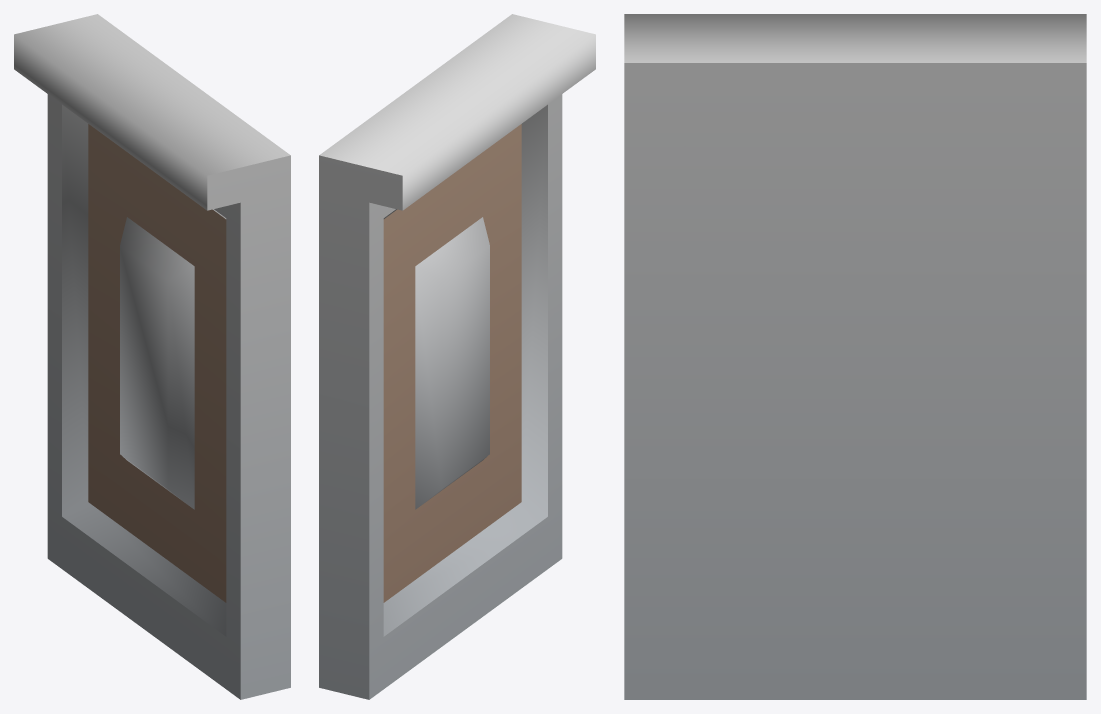
File: paneling-low-b-half (%wall).glb
3 views of the same model, side by side, from view 1: azimuth 30°, elevation 25°; view 2: azimuth 150°, elevation 25°; view 3: azimuth 270°, elevation 25° (orthographic). The views are drawn at different scales.
Visible parts, largest first — view 1: paneling-low-b-half (%wall); view 2: paneling-low-b-half (%wall); view 3: paneling-low-b-half (%wall).
Part boxes in pixels (<box>): paneling-low-b-half (%wall): <box>14,14,290,699</box>; paneling-low-b-half (%wall): <box>319,14,595,699</box>; paneling-low-b-half (%wall): <box>624,14,1086,699</box>.
Bounding box in the file's own units: 0.125 × 0.7604 × 0.5.
